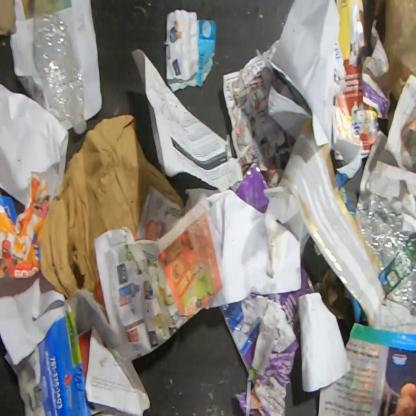cardboard: (261, 258, 317, 362), (218, 299, 260, 373), (234, 162, 270, 216)
rigid_plastic: (354, 190, 415, 318), (33, 10, 87, 135)
soft_plastic: (383, 0, 415, 106)
